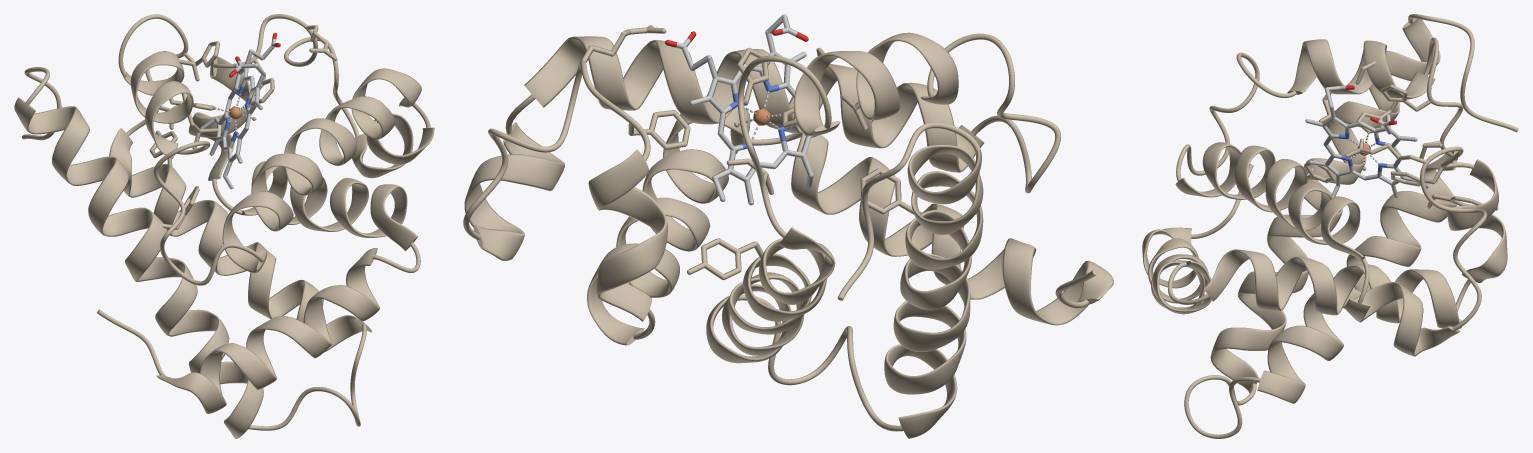
File: 1mbn_1.glb
3 views of the same model, side by side, from view 1: azimuth 30°, elevation 25°; view 2: azimuth 150°, elevation 25°; view 3: azimuth 270°, elevation 25° (orthographic). The views are drawn at different scales.
Visible parts, largest first — view 1: ribbons, bonds, atoms; view 2: ribbons, bonds, atoms; view 3: ribbons, bonds, atoms.
Boxes of the visible parts, bbox=[...] form: ribbons: bbox=[14, 14, 434, 438]; bonds: bbox=[149, 25, 335, 229]; atoms: bbox=[149, 25, 337, 229]; ribbons: bbox=[463, 32, 1113, 438]; bonds: bbox=[581, 14, 923, 279]; atoms: bbox=[589, 14, 900, 279]; ribbons: bbox=[1142, 14, 1518, 438]; bonds: bbox=[1304, 61, 1483, 208]; atoms: bbox=[1304, 67, 1498, 210].
Size of the model in its own units: 39.79 by 34.32 by 33.09.
